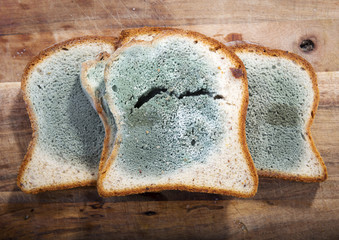mold_bread: (109, 47, 222, 169), (240, 54, 309, 176), (39, 52, 107, 162)
